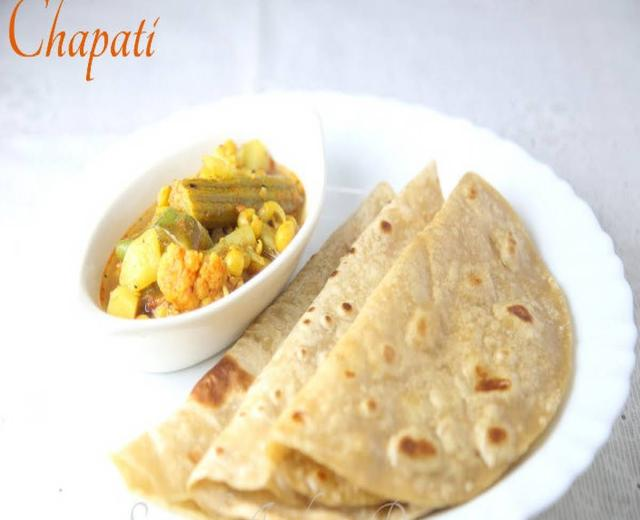chapati: (180, 163, 570, 519)
